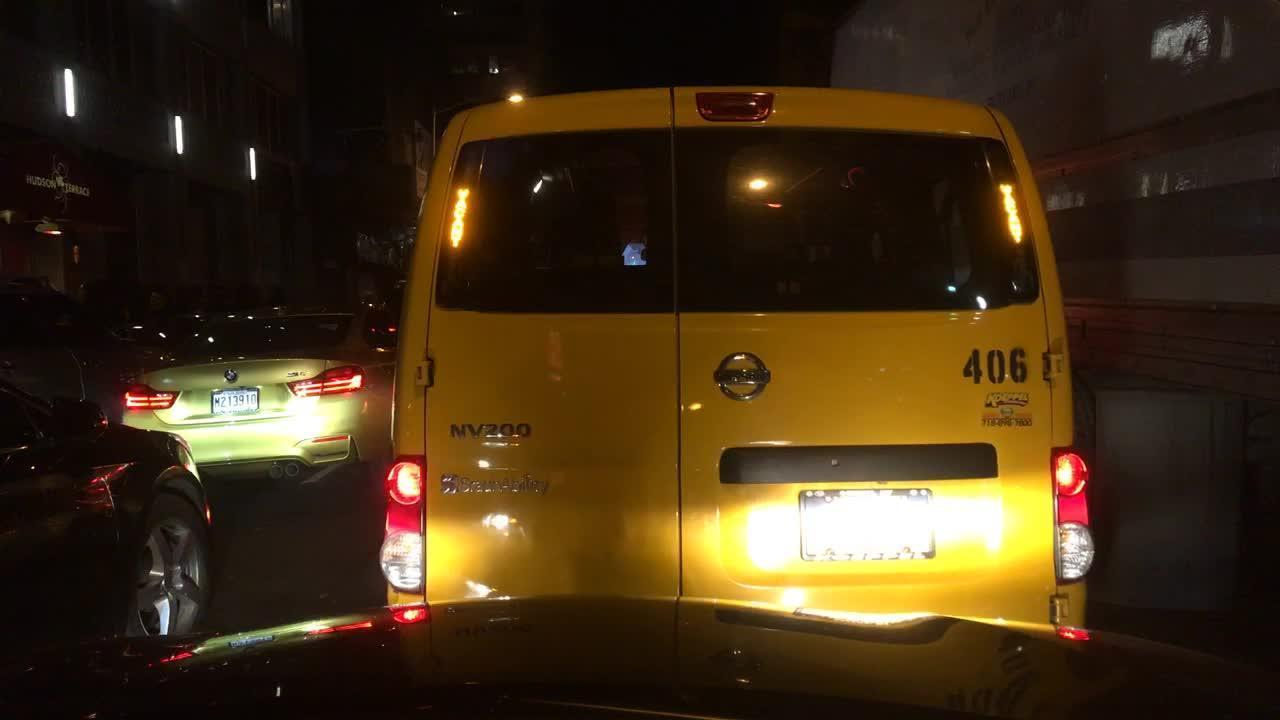Nissan: (707, 342, 781, 410)
